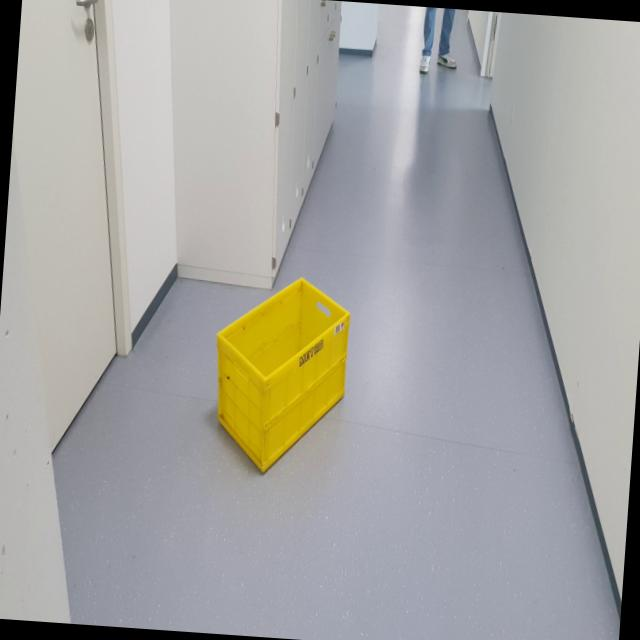box: (198, 270, 358, 488)
